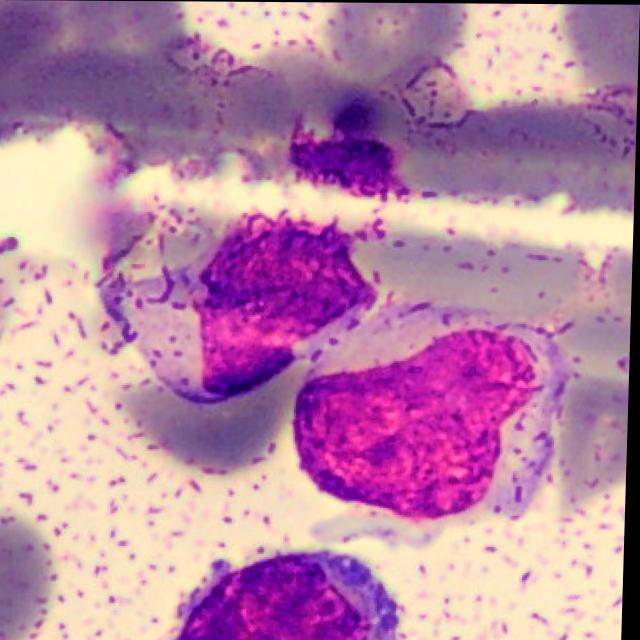Mieloblasto: (295, 323, 574, 523)
